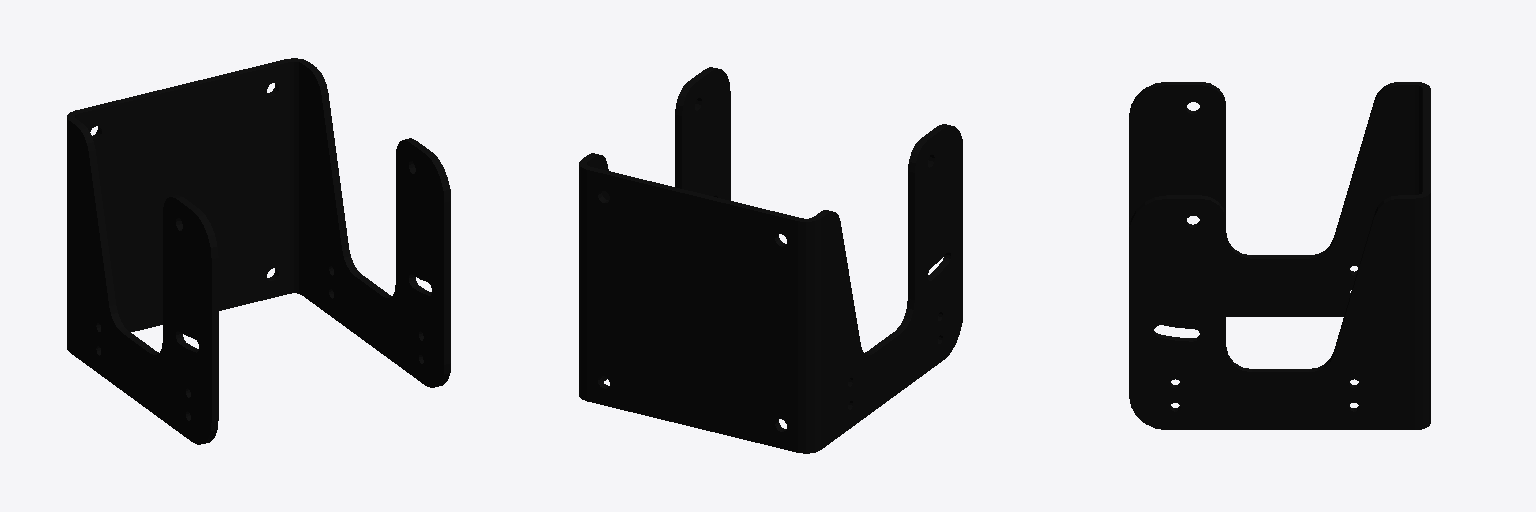
File: lms1xx_mount.obj
3 renders of one model, left to right at view 1: azimuth 30°, elevation 25°; view 2: azimuth 150°, elevation 25°; view 3: azimuth 270°, elevation 25°, orthographic.
Visible parts, largest first — view 1: lms1xx_mount_lms1xx_mount; view 2: lms1xx_mount_lms1xx_mount; view 3: lms1xx_mount_lms1xx_mount.
Boxes of the visible parts, box(x1,y1,x2,y2) form: lms1xx_mount_lms1xx_mount: box(67, 58, 450, 444); lms1xx_mount_lms1xx_mount: box(579, 67, 962, 453); lms1xx_mount_lms1xx_mount: box(1129, 82, 1430, 429).
Size of the model in its own units: 0.1084 by 0.1 by 0.1182.